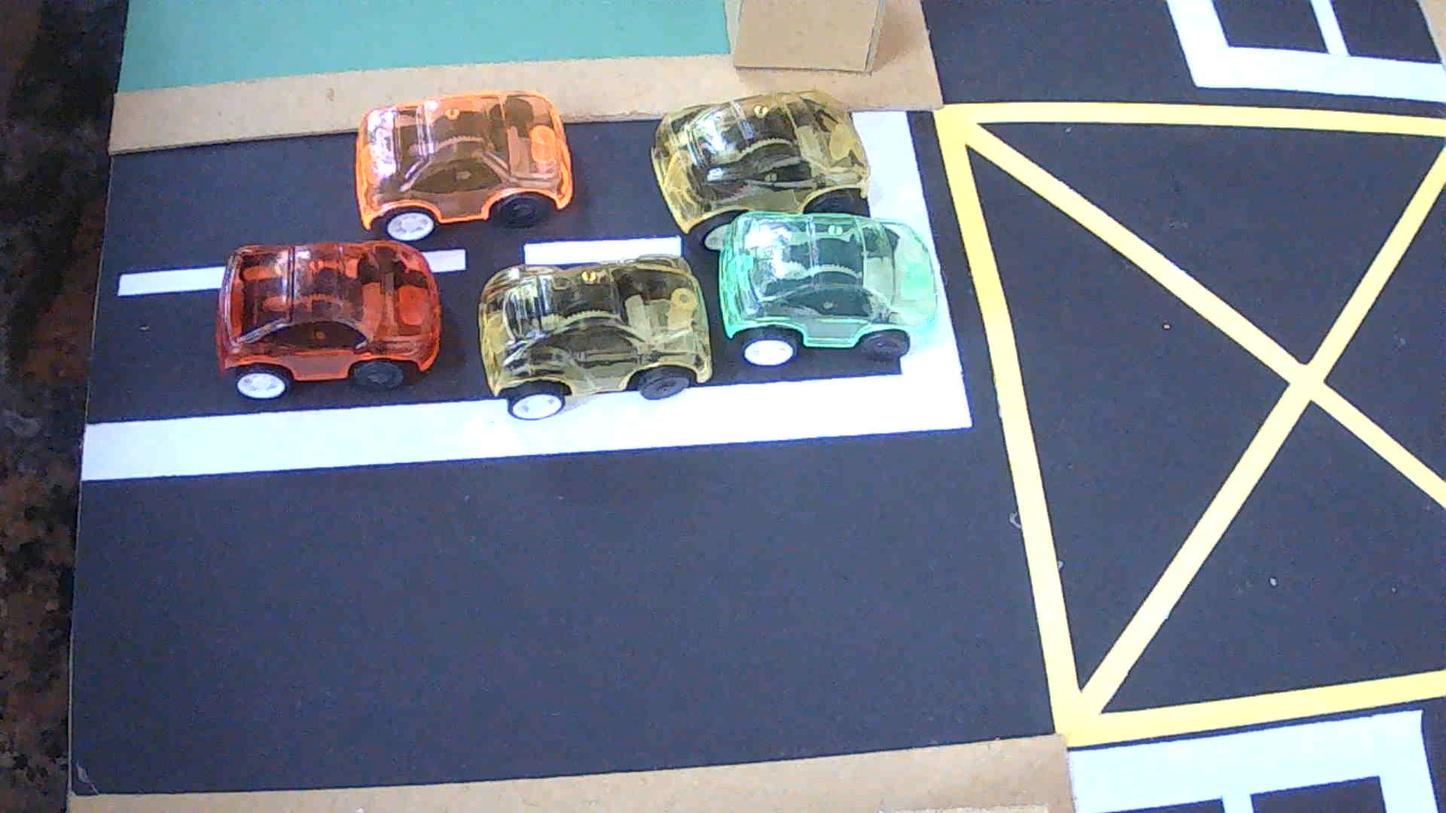Mobil hijau: (718, 213, 940, 365)
Mobil kuning: (478, 255, 711, 419), (651, 90, 869, 251)
Mobil merah: (215, 241, 441, 398)
Mobil orange: (354, 90, 572, 241)
